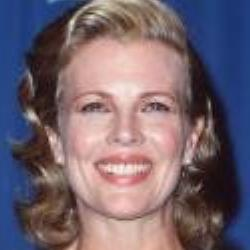face: (5, 6, 234, 247)
